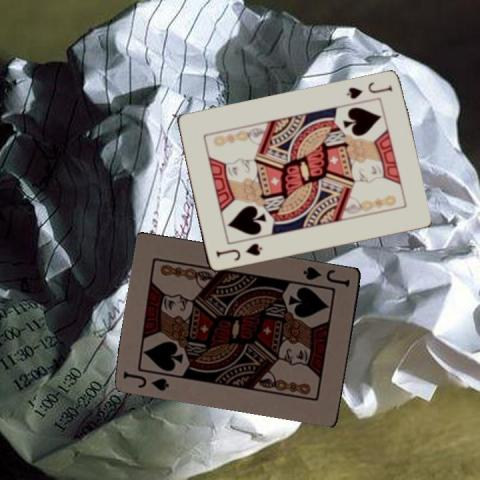Js: (301, 263, 352, 288), (120, 367, 171, 392), (213, 241, 264, 263), (343, 80, 393, 102)
